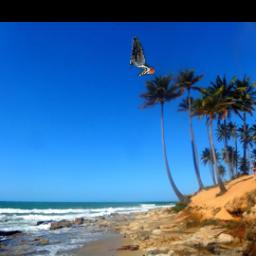Woodpecker: (131, 37, 156, 77)
